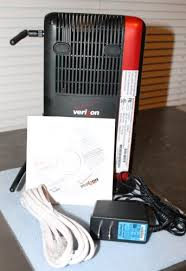Verizon Router: (11, 9, 149, 188)
